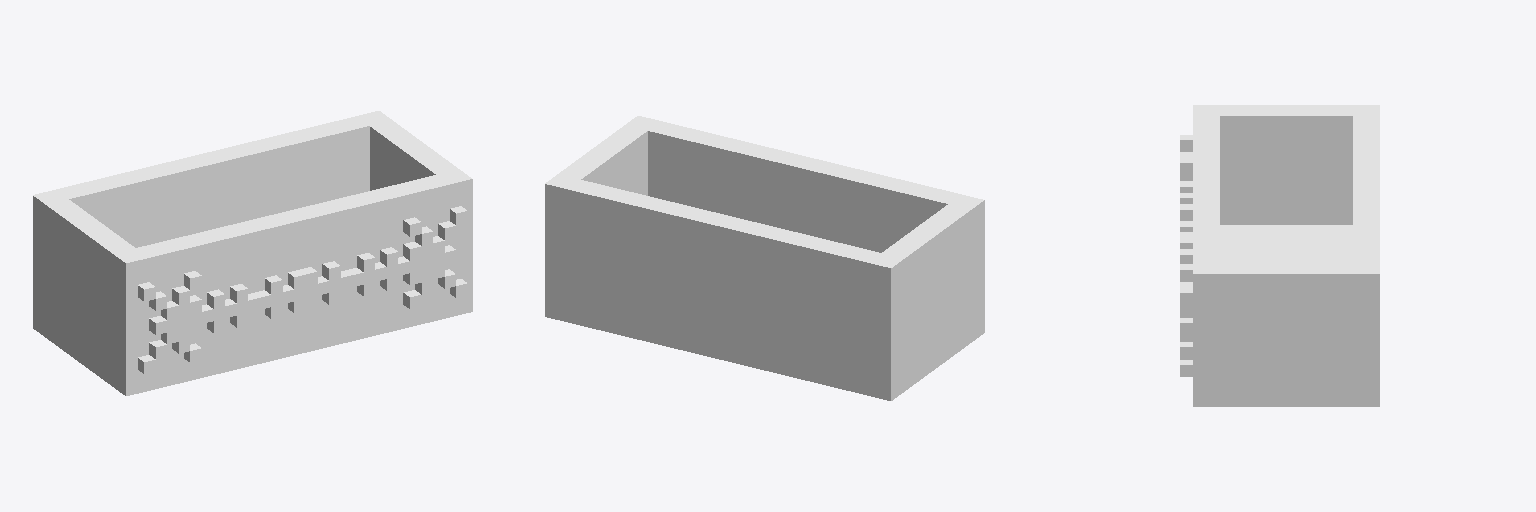
The model's file is ChestBottom.obj.
The picture shows the model from 3 angles: view 1: azimuth 30°, elevation 25°; view 2: azimuth 150°, elevation 25°; view 3: azimuth 270°, elevation 25°; orthographic projection.
Parts seen in each view (by area): view 1: object 1; view 2: object 1; view 3: object 1.
Part boxes in pixels (bbox=[...]): object 1: bbox=[33, 111, 472, 395]; object 1: bbox=[545, 116, 984, 400]; object 1: bbox=[1180, 105, 1379, 406].
Bounding box in the file's own units: 3 × 1.1 × 1.5.